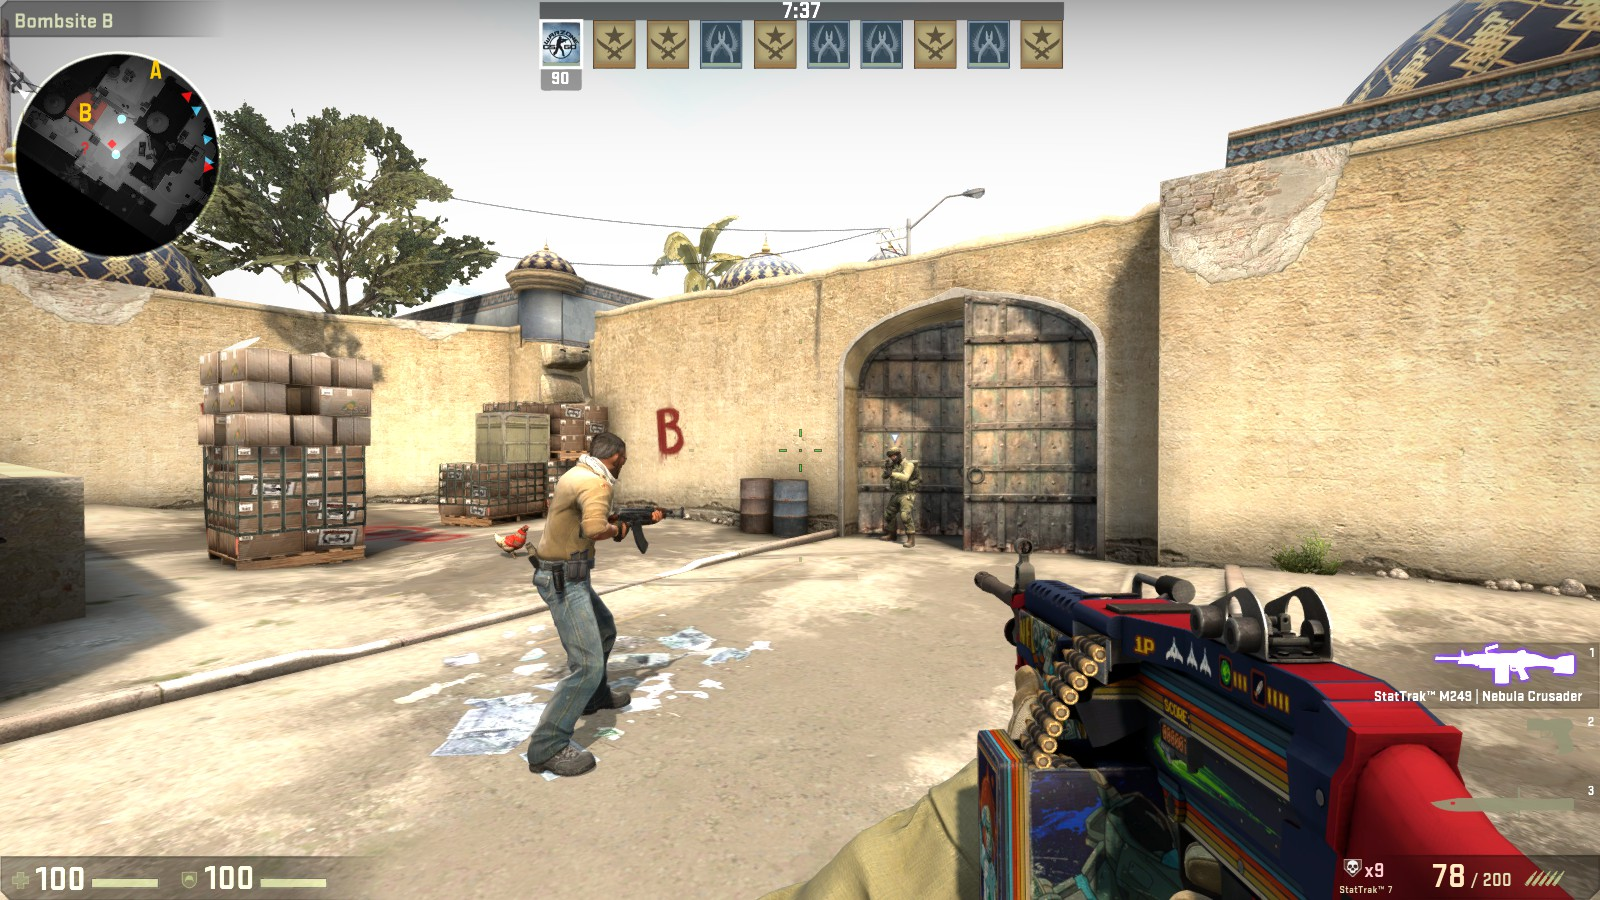c: (877, 445, 920, 549)
ch: (890, 444, 907, 467)
t: (532, 425, 626, 775)
th: (579, 421, 631, 480)
